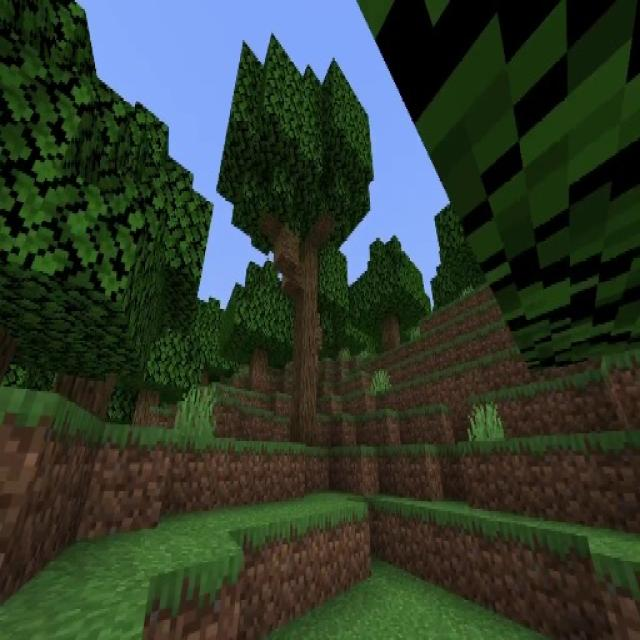oak: (234, 54, 372, 450), (221, 260, 293, 400), (351, 234, 430, 356)
oak_log: (295, 246, 318, 447), (248, 348, 268, 394), (382, 314, 400, 353)
